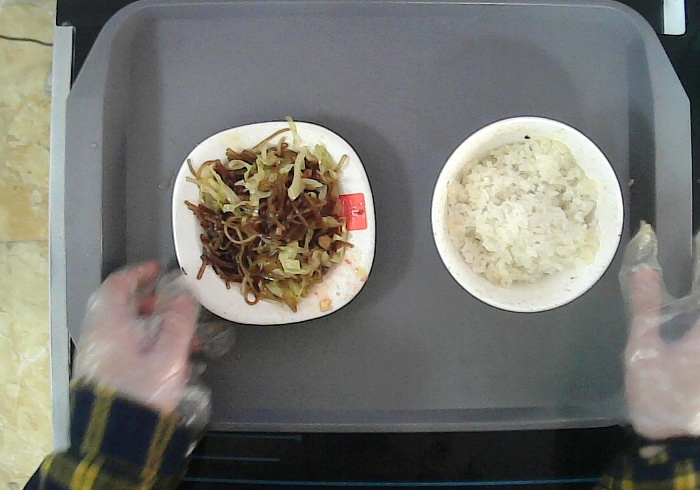SHKJ-Bai_Se_Si_Fang_Cai_Die: (172, 120, 375, 326)
SHKJ-Fan_Wan: (429, 116, 625, 314)
